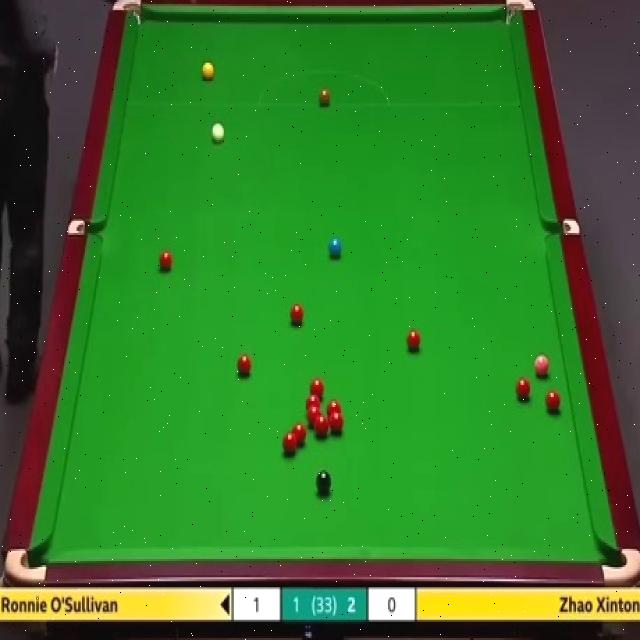black-ball: (316, 468, 332, 498)
blue-ball: (328, 236, 343, 257)
brown-ball: (318, 87, 331, 107)
pink-ball: (534, 352, 550, 378)
red-ball: (236, 352, 253, 380), (516, 377, 534, 401), (281, 432, 298, 457), (292, 425, 309, 449), (545, 390, 562, 413), (407, 328, 422, 353), (329, 412, 344, 436), (289, 304, 305, 326), (159, 250, 173, 273), (315, 414, 328, 437), (308, 378, 325, 395), (307, 407, 321, 425), (306, 393, 320, 410), (327, 402, 341, 415)
white-ball: (211, 121, 225, 147)
yellow-ball: (202, 62, 216, 83)
